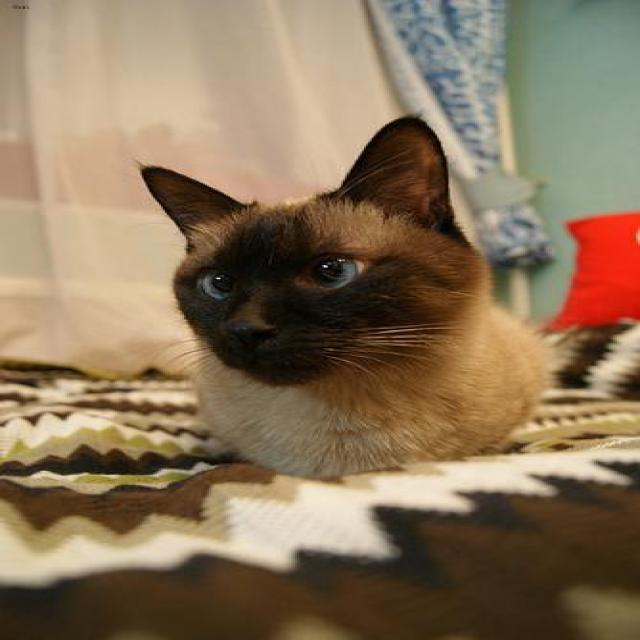cat: (138, 115, 550, 480)
